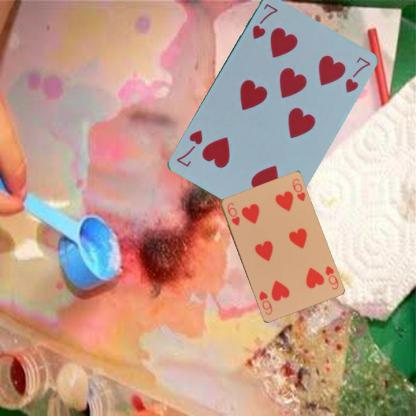6h: (322, 263, 340, 291), (224, 200, 241, 227)
7h: (249, 1, 279, 42)
